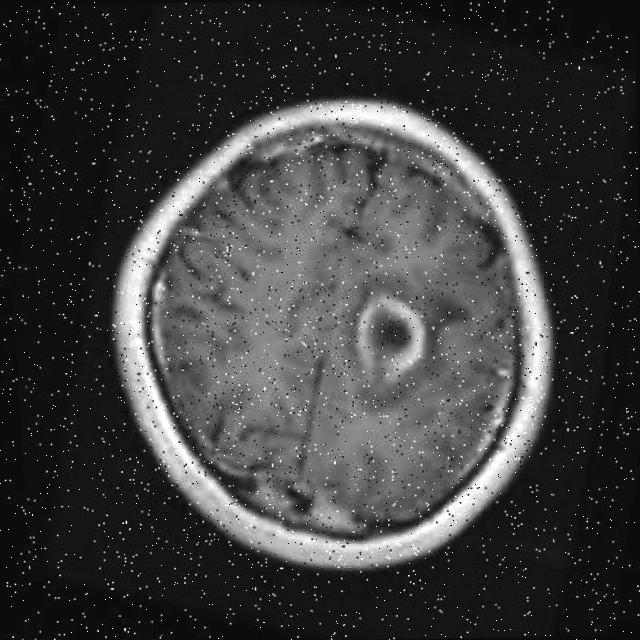EMCI: (315, 274, 494, 428)
